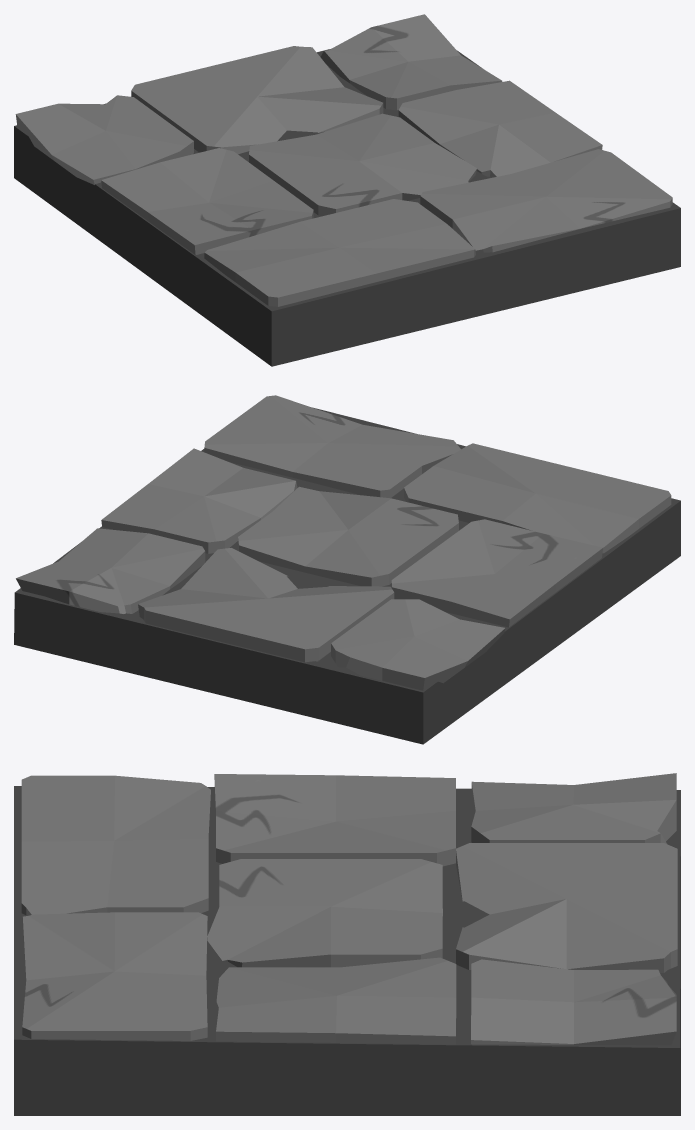
Rendered from piso.fbx.
The picture shows the model from 3 angles, top to bottom: view 1: azimuth 30°, elevation 25°; view 2: azimuth 150°, elevation 25°; view 3: azimuth 270°, elevation 25°; orthographic projection. The views are drawn at different scales.
Visible parts, largest first — view 1: polySurface122; view 2: polySurface122; view 3: polySurface122.
Part boxes in pixels (x1=…): polySurface122: x1=14, y1=14, x2=680, y2=366; polySurface122: x1=14, y1=395, x2=680, y2=744; polySurface122: x1=14, y1=773, x2=680, y2=1115.
Size of the model in its own units: 22.23 by 3.36 by 24.04.
1 material, 1 textured.
